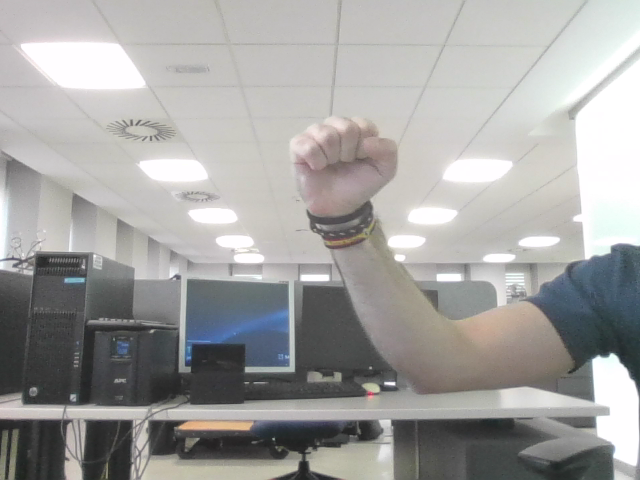Puño: (301, 126, 384, 193)
